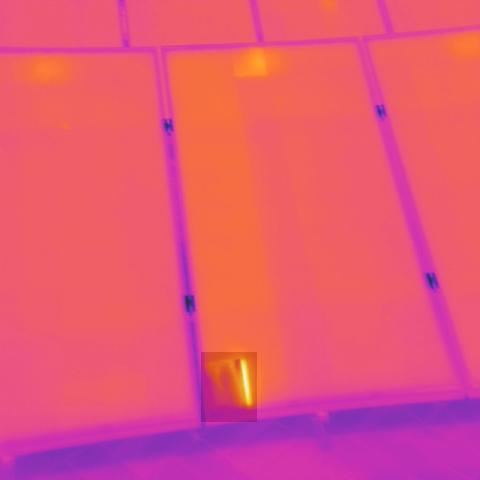fault: (201, 352, 257, 422)
